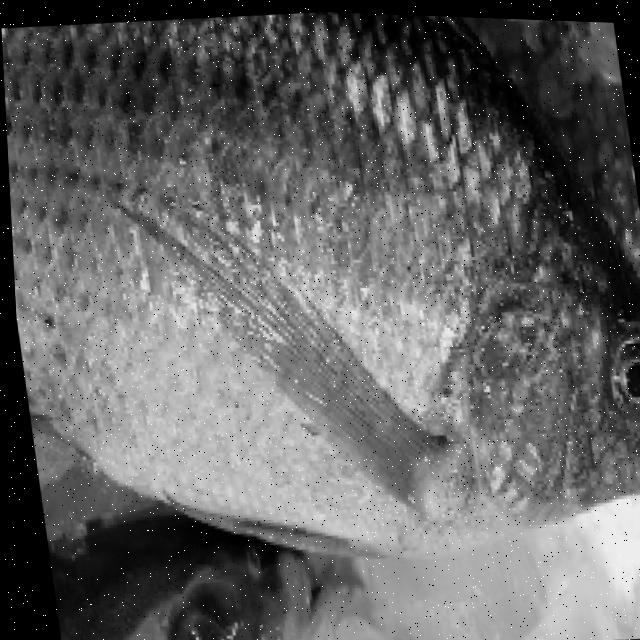Fresh: (5, 14, 640, 602)
